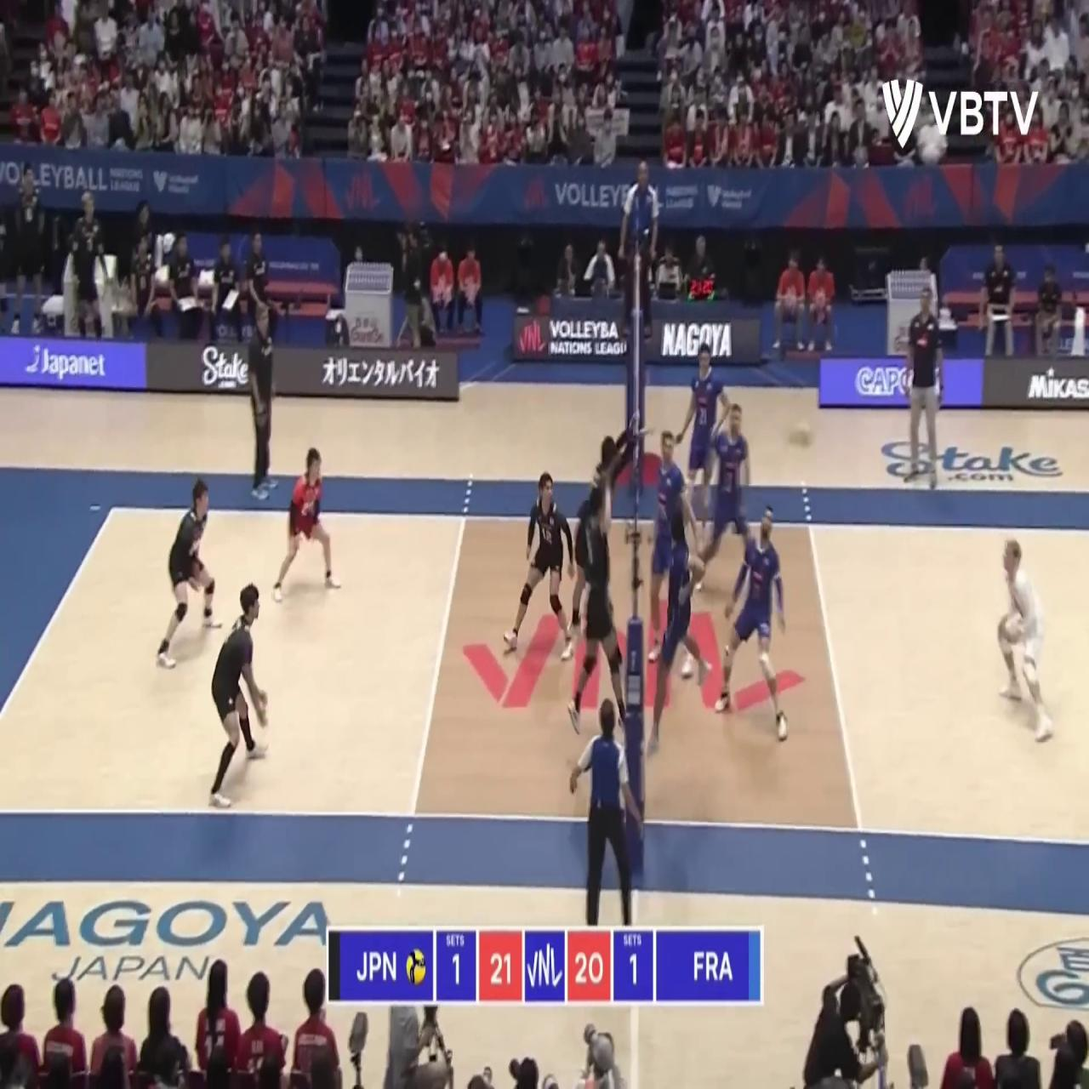ball: (784, 419, 815, 447)
